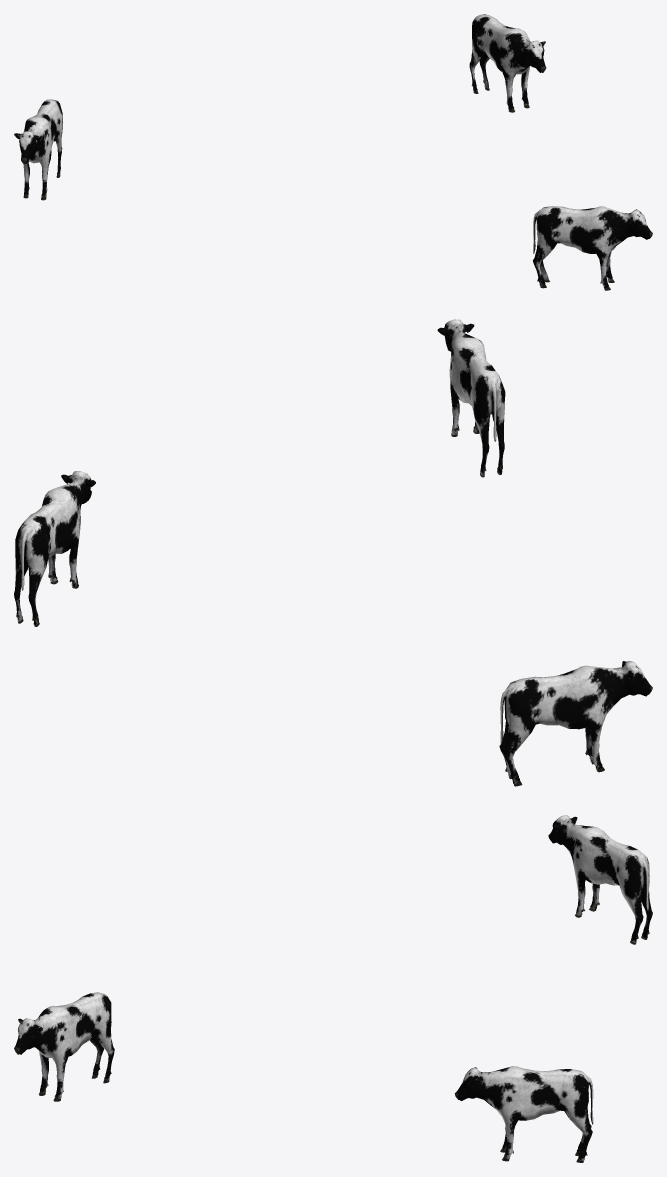
The model's file is cow2.gltf.
The picture shows the model from 3 angles, top to bottom: view 1: azimuth 30°, elevation 25°; view 2: azimuth 150°, elevation 25°; view 3: azimuth 270°, elevation 25°; orthographic projection. The views are drawn at different scales.
Parts seen in each view (by area): view 1: cow.001; view 2: cow.001; view 3: cow.001.
Boxes of the visible parts, <box> form: cow.001: <box>14,14,652,290</box>; cow.001: <box>14,319,652,786</box>; cow.001: <box>14,815,652,1162</box>.
Bounding box in the file's own units: 31.42 × 5.35 × 31.15.
Materials: 4 (4 with a texture image).
